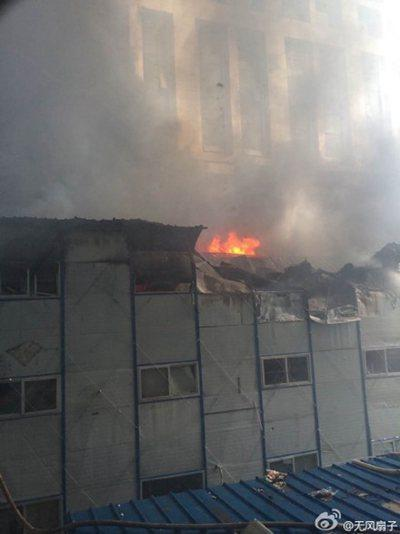fire: (186, 215, 274, 266)
